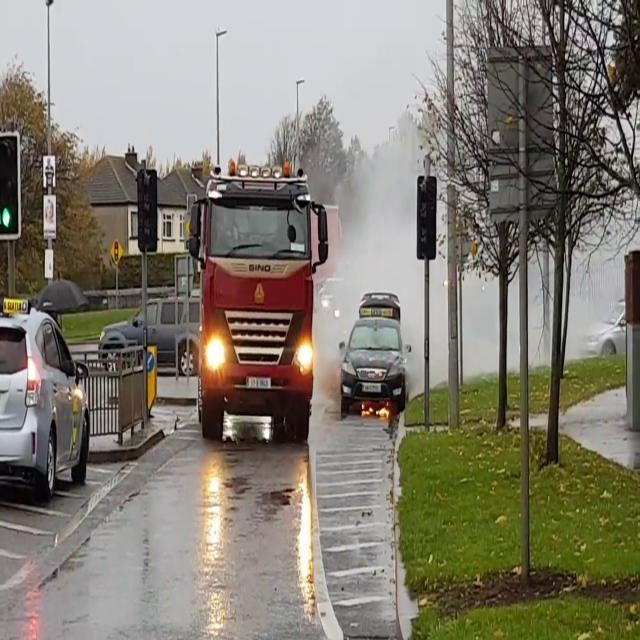Fire: (360, 396, 392, 422)
Smoke: (316, 108, 424, 350)
